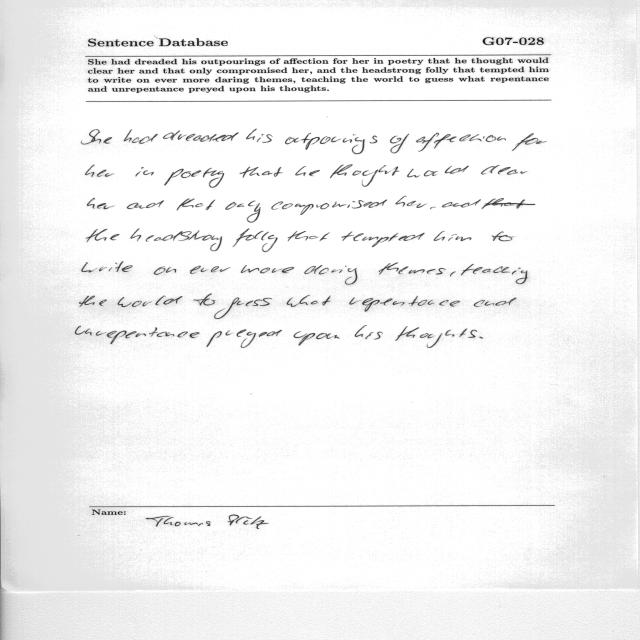word: (75, 326, 199, 344), (130, 229, 222, 252), (285, 133, 377, 154), (395, 326, 477, 348), (349, 296, 460, 312), (272, 200, 388, 215), (416, 133, 506, 152), (330, 165, 399, 187), (206, 329, 282, 348), (461, 264, 529, 284), (341, 232, 425, 247), (214, 298, 272, 319), (164, 168, 224, 188), (233, 228, 278, 252), (305, 265, 358, 285), (379, 262, 446, 275), (163, 131, 239, 142), (225, 201, 261, 223), (118, 296, 183, 307), (294, 331, 340, 346), (407, 166, 469, 177), (512, 133, 546, 151), (482, 198, 535, 209), (82, 262, 133, 273), (287, 295, 330, 307), (124, 129, 158, 144), (81, 129, 112, 145), (240, 167, 283, 178), (481, 165, 527, 175), (177, 199, 215, 211), (86, 229, 120, 242), (241, 265, 294, 273), (288, 231, 330, 241), (355, 325, 383, 340), (474, 298, 516, 307), (395, 196, 426, 208), (434, 231, 471, 241), (246, 129, 272, 143), (390, 134, 409, 153), (86, 165, 114, 177), (127, 200, 164, 209), (190, 266, 230, 274), (442, 200, 481, 208), (87, 198, 115, 209), (79, 296, 107, 307), (194, 294, 216, 306), (295, 166, 320, 176), (492, 232, 514, 242), (154, 267, 176, 275), (135, 167, 154, 176), (450, 272, 456, 277), (430, 207, 436, 209), (479, 337, 483, 339)
